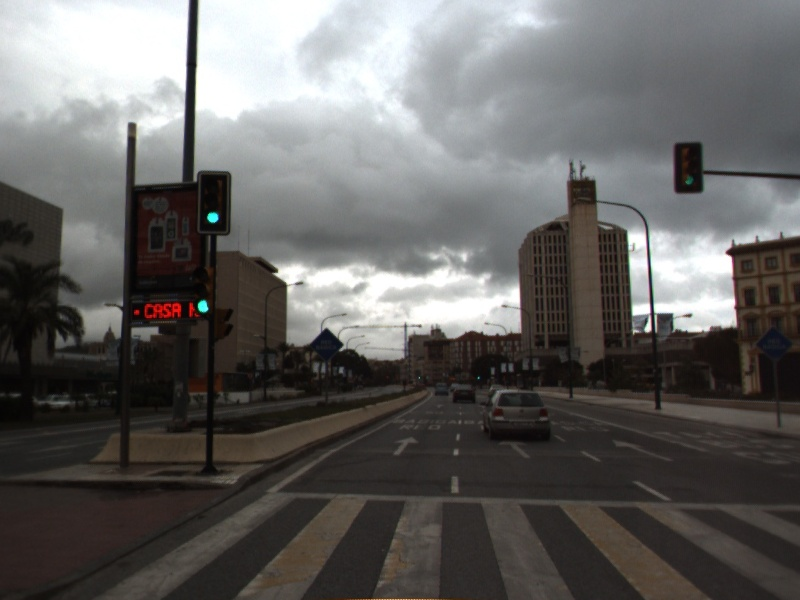STRAIGHT: (610, 437, 676, 464), (496, 438, 533, 460), (390, 434, 422, 458)
